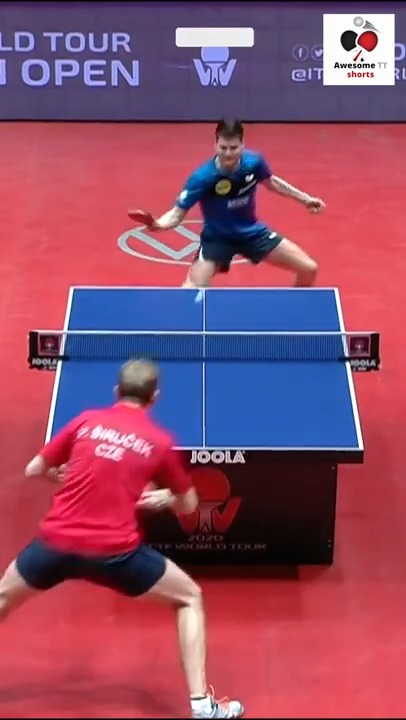Ball: (194, 286, 208, 304)
